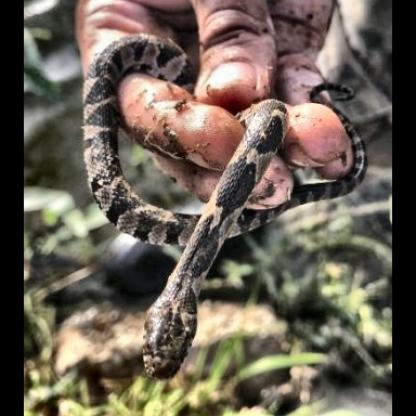Snake: (80, 44, 382, 376)
